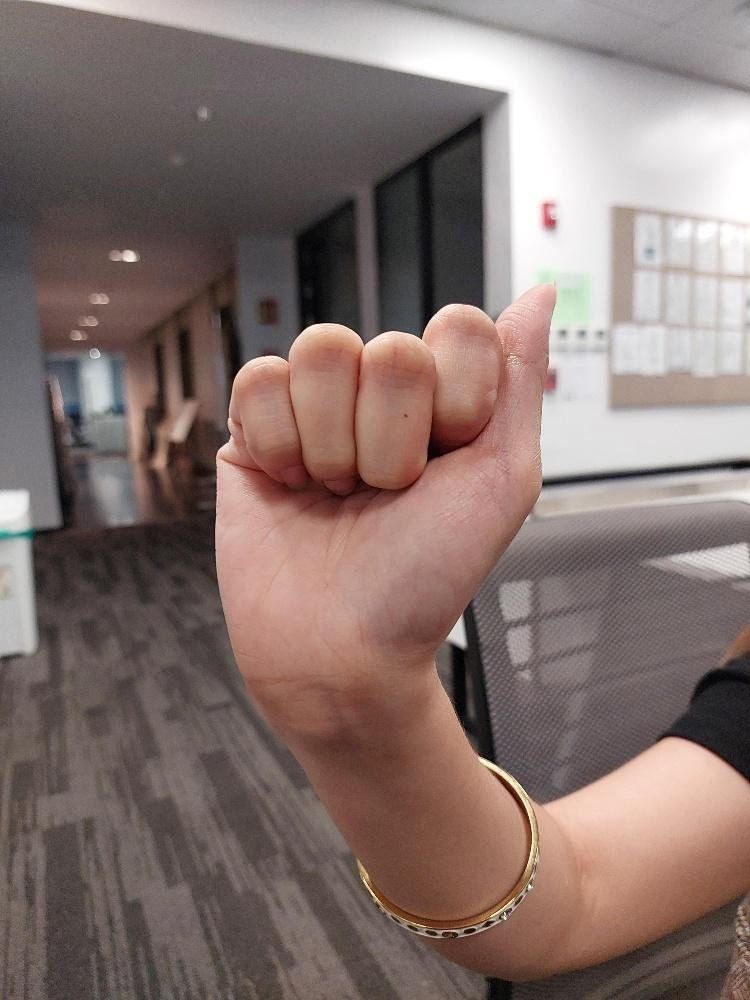a: (211, 274, 560, 720)
